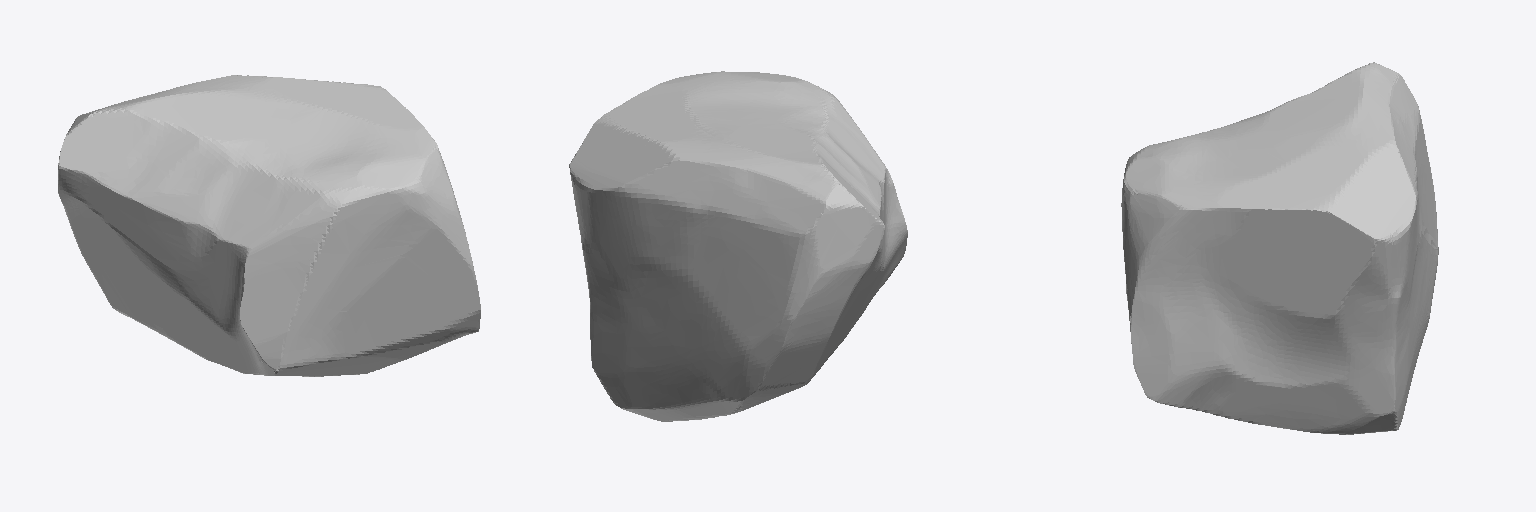
The model's file is Rock 1.obj.
3 views of the same model, side by side, from view 1: azimuth 30°, elevation 25°; view 2: azimuth 150°, elevation 25°; view 3: azimuth 270°, elevation 25° (orthographic).
Visible parts, largest first — view 1: Group53791; view 2: Group53791; view 3: Group53791.
Part boxes in pixels (x1,y1,x2,y2): Group53791: (58,75,480,376); Group53791: (569,71,907,421); Group53791: (1121,62,1438,434).
Size of the model in its own units: 2.77 by 2.38 by 2.42.